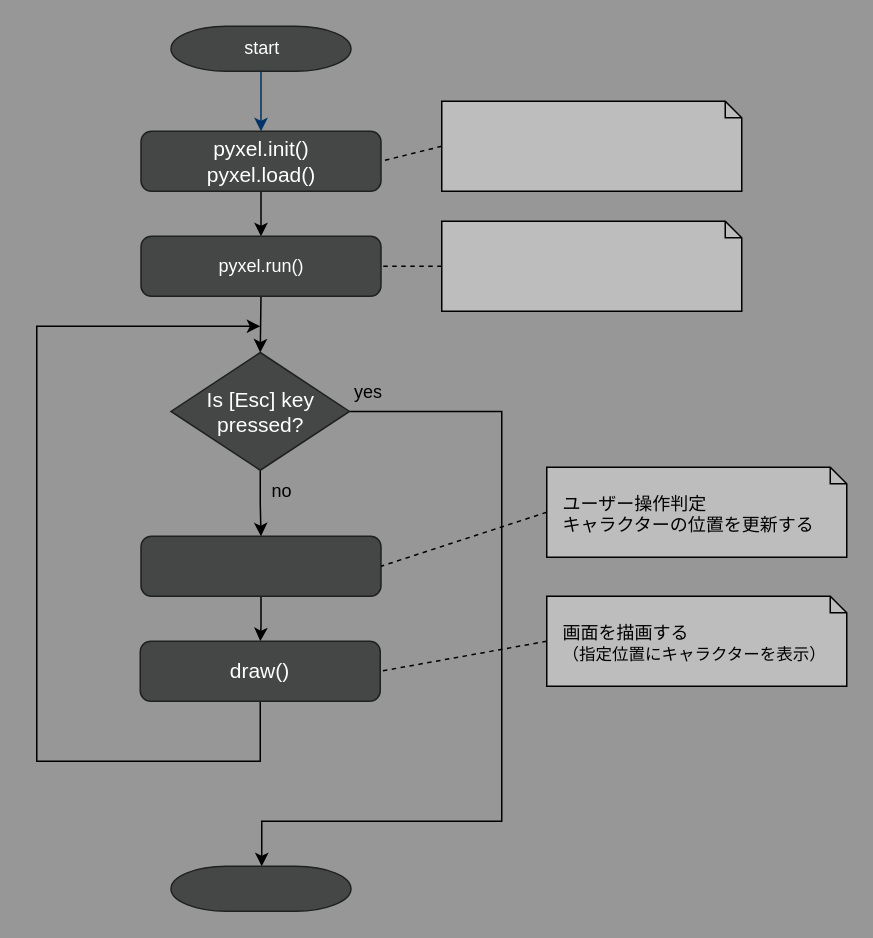
Image size: 873x938. Some labels were removed from this diagram. Each missing label, with the centre of its shape:
"end" goes at point 260,888.
"run()実行で update()とdraw()が繰り返し呼び出されるようになる" goes at point 591,265.
"update()" goes at point 260,565.
"画面サイズを指定する リソースファイルを読み込む" goes at point 591,145.
